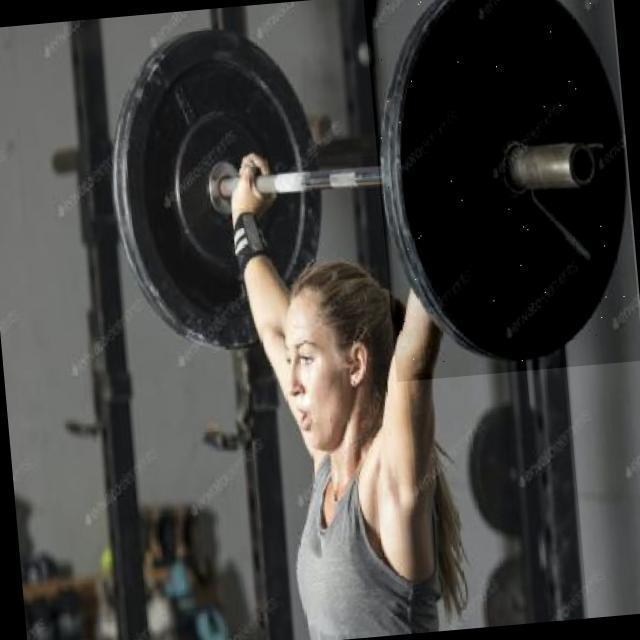barbell: (364, 1, 640, 382)
